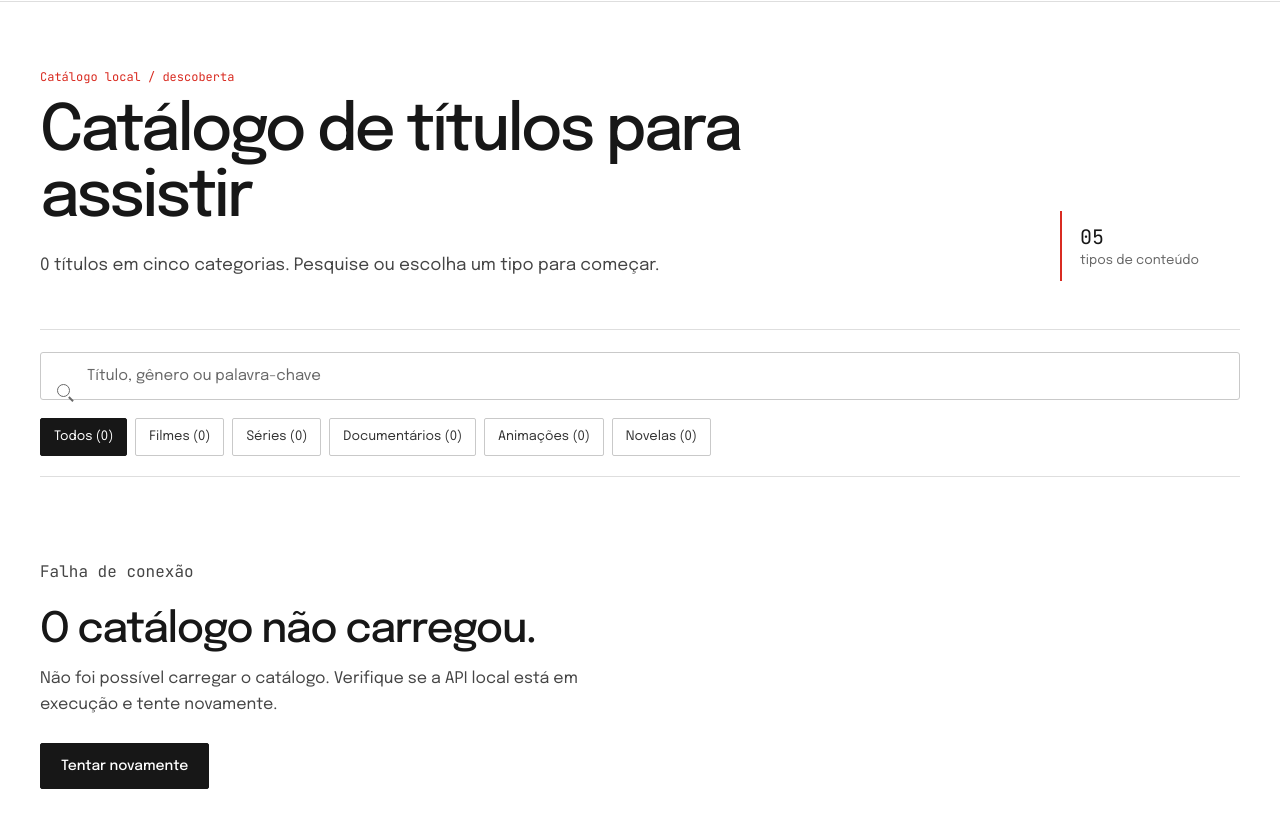
Scenario: fluxo do catálogo › informa falha HTTP e permite tentar de novo
Expected: the heading "O catálogo não carregou." is shown, [40,609,536,652]
Click the button "Tentar novamente".
click(125, 766)  # box [40,743,209,789]
(page scrolled)
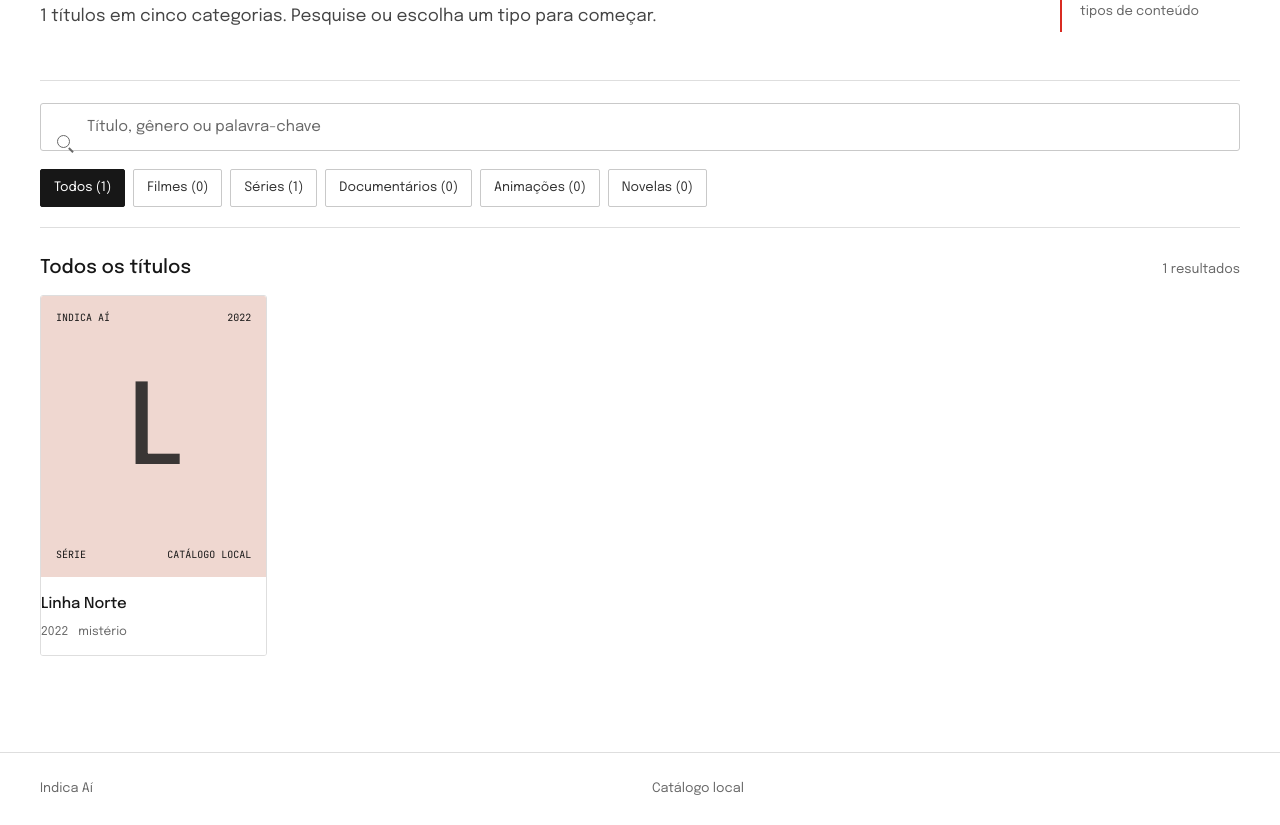
Result: the button "Linha Norte" is shown at [41,296,266,655]
